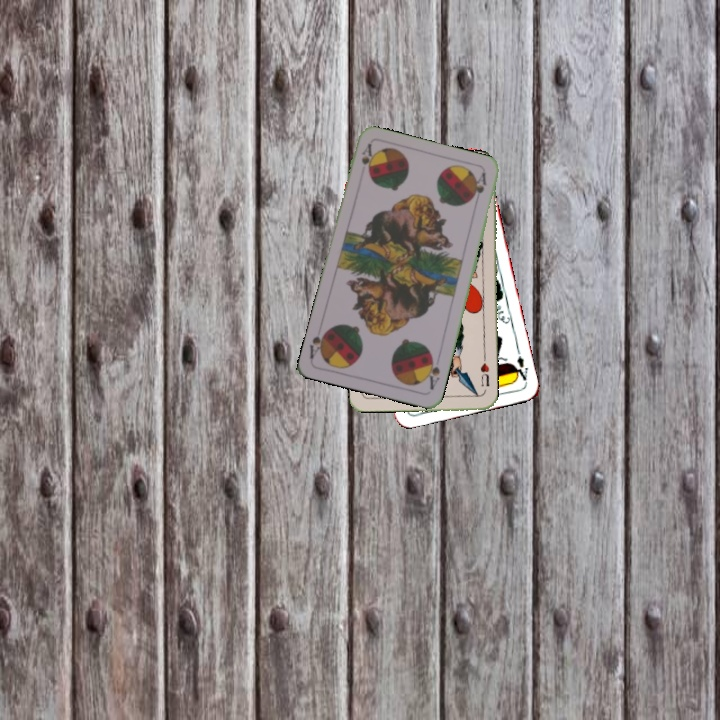EA: (509, 345, 531, 384)
HU: (476, 354, 492, 389)
SA: (422, 352, 443, 392), (357, 140, 376, 176)
